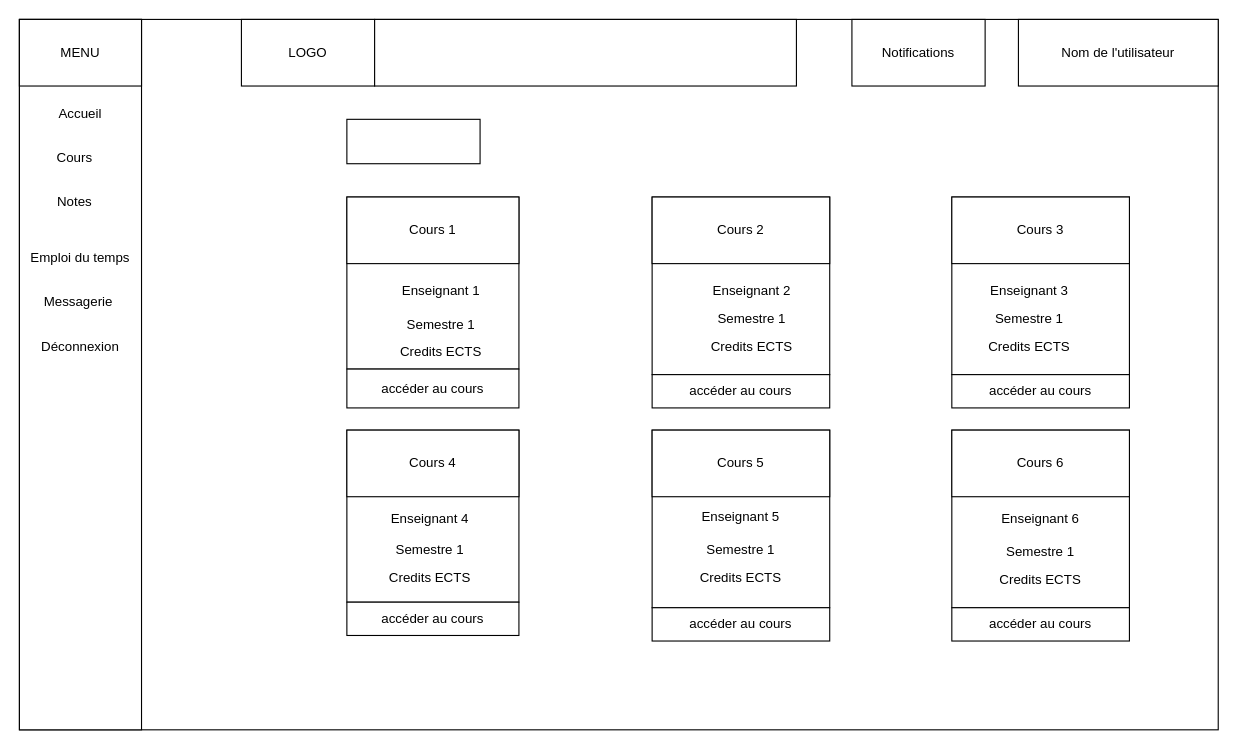
Some shapes in this 1238 by 749 pixel diagram are drawn without their labels. Here are the shapes that lost their labels. From the top down, the box of each, then its label:
(374, 18, 796, 86): Nom du site
(346, 118, 480, 164): Cours inscrits
